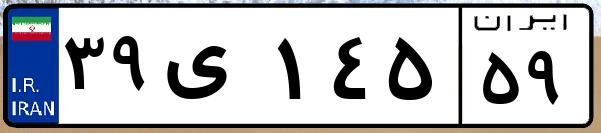1: (270, 28, 330, 110)
3: (57, 26, 110, 100)
4: (330, 28, 385, 110)
5: (385, 28, 445, 110), (475, 38, 525, 113)
9: (525, 38, 570, 115), (110, 28, 158, 98)
ی: (158, 20, 270, 120)
